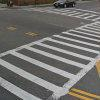Crosswalk: (1, 23, 100, 96)
